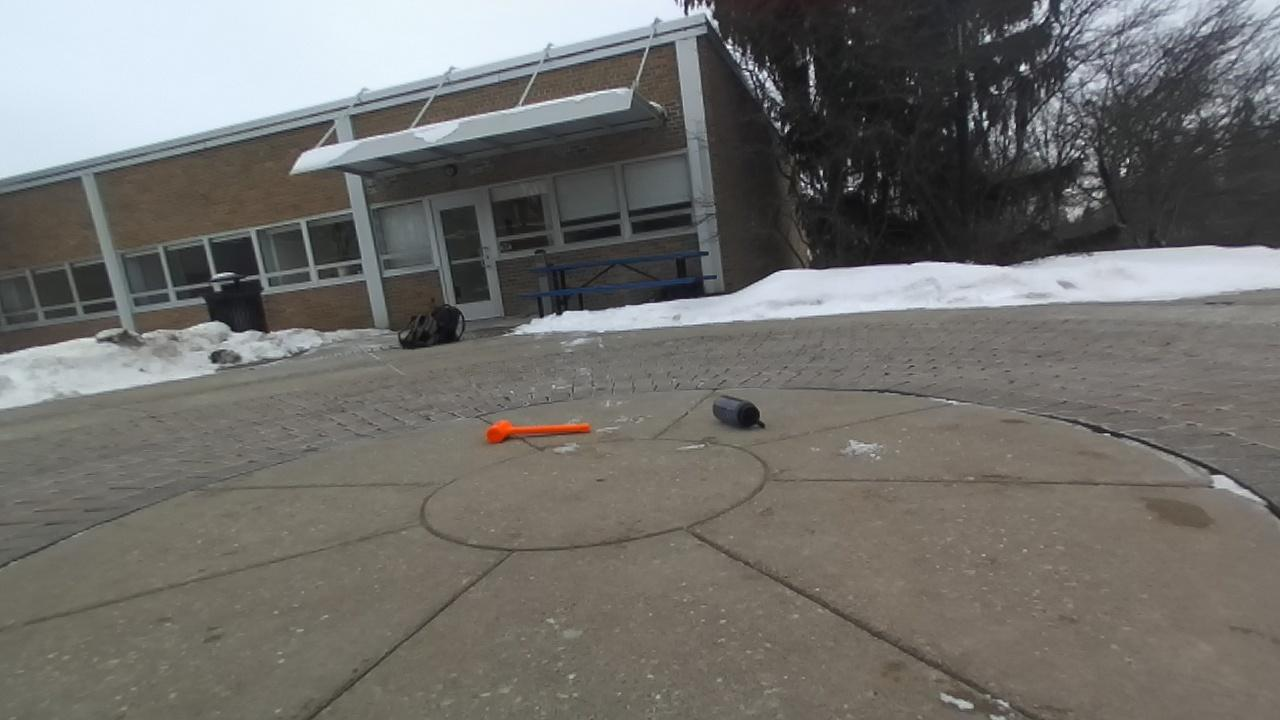bottle: (712, 396, 764, 427)
mallet: (486, 420, 590, 443)
